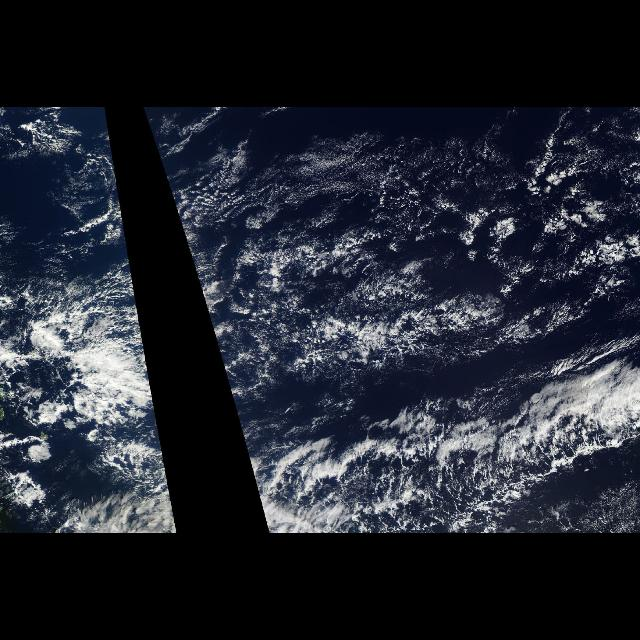Fish: (2, 281, 160, 437)
Sugar: (162, 122, 476, 284)
